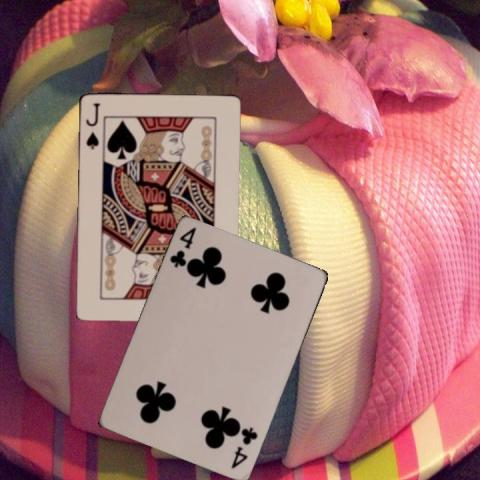4c: (228, 424, 259, 471), (167, 225, 198, 269)
Js: (83, 99, 101, 151)
